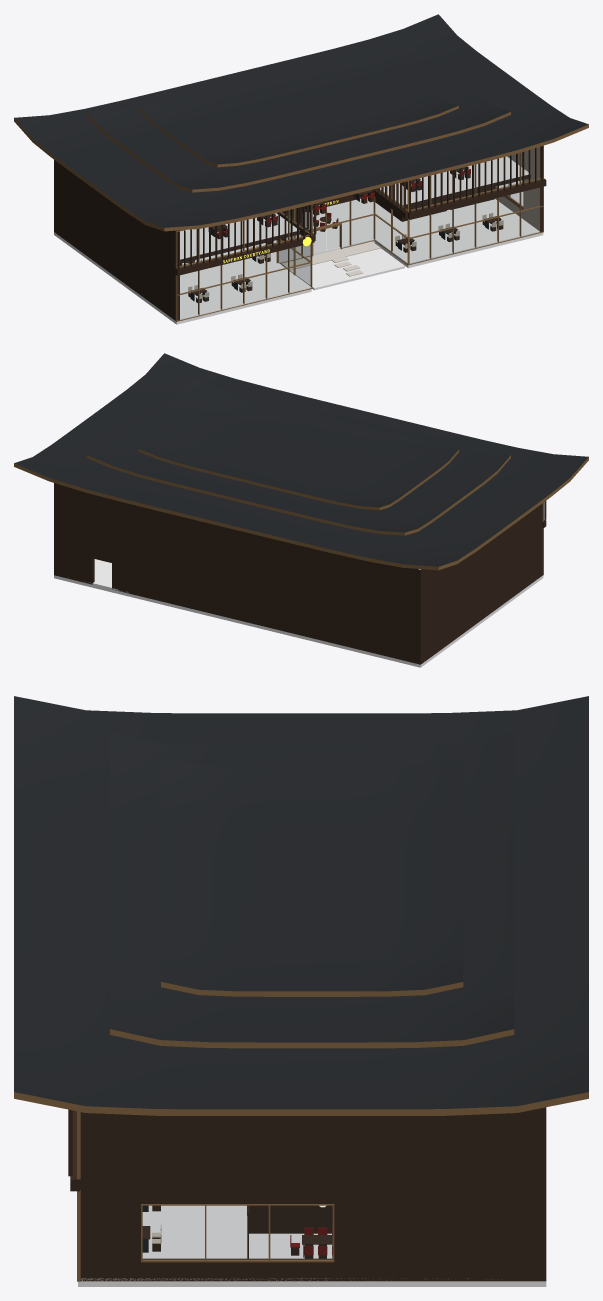
The model's file is saffron_courtyard_lod1.glb.
3 views of the same model, one above another, from view 1: azimuth 30°, elevation 25°; view 2: azimuth 150°, elevation 25°; view 3: azimuth 270°, elevation 25° (orthographic). The views are drawn at different scales.
Parts seen in each view (by area): view 1: P09_LOD1_BUILDING_EXTERIOR_RoofPlates, P09_LOD1_BUILDING_EXTERIOR_Shell, P09_LOD1_BUILDING_INTERIOR_GroundSlab, P09_LOD1_GLASS_SYSTEM_GFGlass, P09_LOD1_GLASS_SYSTEM_L1Glass, P09_LOD1_BUILDING_INTERIOR_Slabs, P09_LOD1_FACADE_DETAILS_Timber, P09_LOD1_GLASS_SYSTEM_GFFrame, P09_LOD1_FURNITURE_Dining, P09_LOD1_GLASS_SYSTEM_L1Frame, P09_LOD1_BUILDING_INTERIOR_Screens; view 2: P09_LOD1_BUILDING_EXTERIOR_RoofPlates, P09_LOD1_BUILDING_EXTERIOR_Shell, P09_LOD1_BUILDING_INTERIOR_GroundSlab; view 3: P09_LOD1_BUILDING_EXTERIOR_RoofPlates, P09_LOD1_BUILDING_EXTERIOR_Shell, P09_LOD1_GLASS_SYSTEM_SideGlass, P09_LOD1_BUILDING_INTERIOR_GroundSlab, P09_LOD1_BUILDING_INTERIOR_Screens, P09_LOD1_GLASS_SYSTEM_SideFrame, P09_LOD1_FURNITURE_Dining.
Boxes of the visible parts, x1,y1,x2,y2 form: P09_LOD1_BUILDING_EXTERIOR_RoofPlates: [14, 14, 588, 231]; P09_LOD1_BUILDING_EXTERIOR_Shell: [54, 146, 546, 320]; P09_LOD1_BUILDING_INTERIOR_GroundSlab: [54, 197, 543, 324]; P09_LOD1_GLASS_SYSTEM_GFGlass: [180, 188, 539, 318]; P09_LOD1_GLASS_SYSTEM_L1Glass: [180, 147, 539, 265]; P09_LOD1_BUILDING_INTERIOR_Slabs: [180, 156, 530, 263]; P09_LOD1_FACADE_DETAILS_Timber: [177, 146, 542, 269]; P09_LOD1_GLASS_SYSTEM_GFFrame: [175, 186, 543, 321]; P09_LOD1_FURNITURE_Dining: [180, 167, 503, 302]; P09_LOD1_GLASS_SYSTEM_L1Frame: [175, 145, 543, 268]; P09_LOD1_BUILDING_INTERIOR_Screens: [375, 187, 494, 221]; P09_LOD1_BUILDING_EXTERIOR_RoofPlates: [14, 353, 588, 570]; P09_LOD1_BUILDING_EXTERIOR_Shell: [54, 483, 546, 664]; P09_LOD1_BUILDING_INTERIOR_GroundSlab: [54, 559, 543, 667]; P09_LOD1_BUILDING_EXTERIOR_RoofPlates: [14, 696, 588, 1115]; P09_LOD1_BUILDING_EXTERIOR_Shell: [70, 1107, 546, 1281]; P09_LOD1_GLASS_SYSTEM_SideGlass: [143, 1206, 331, 1259]; P09_LOD1_BUILDING_INTERIOR_GroundSlab: [78, 1205, 546, 1286]; P09_LOD1_BUILDING_INTERIOR_Screens: [247, 1205, 332, 1258]; P09_LOD1_GLASS_SYSTEM_SideFrame: [141, 1204, 334, 1262]; P09_LOD1_FURNITURE_Dining: [142, 1205, 332, 1258].
Size of the model in its own units: 44 by 12.78 by 27.
